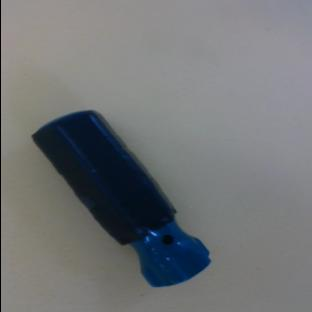part_2_bad: (29, 94, 215, 302)
